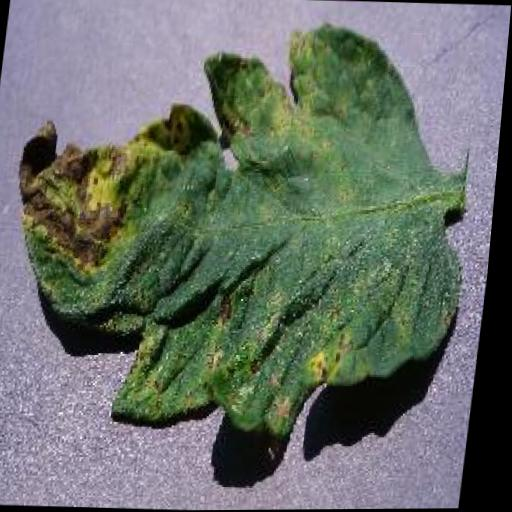Septoria: (0, 12, 496, 446)
